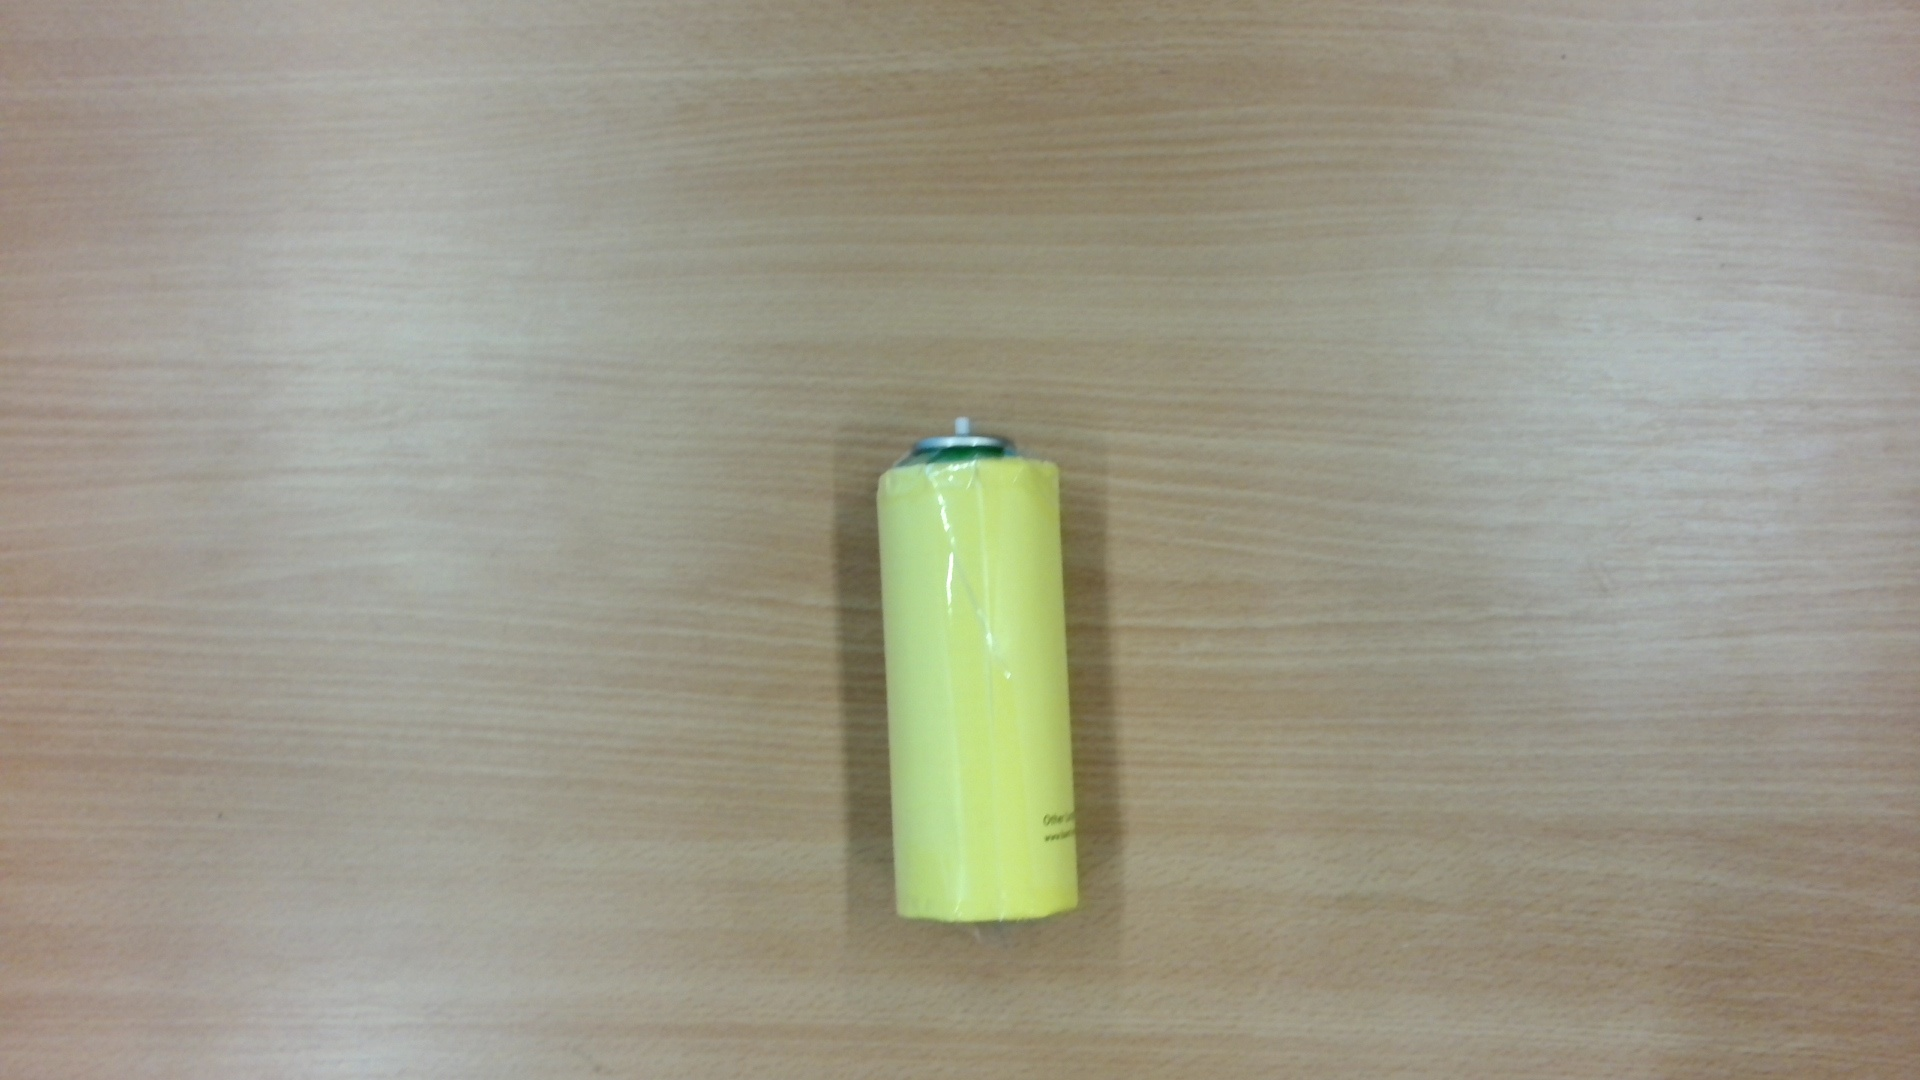Cylinder: (862, 405, 1104, 938)
